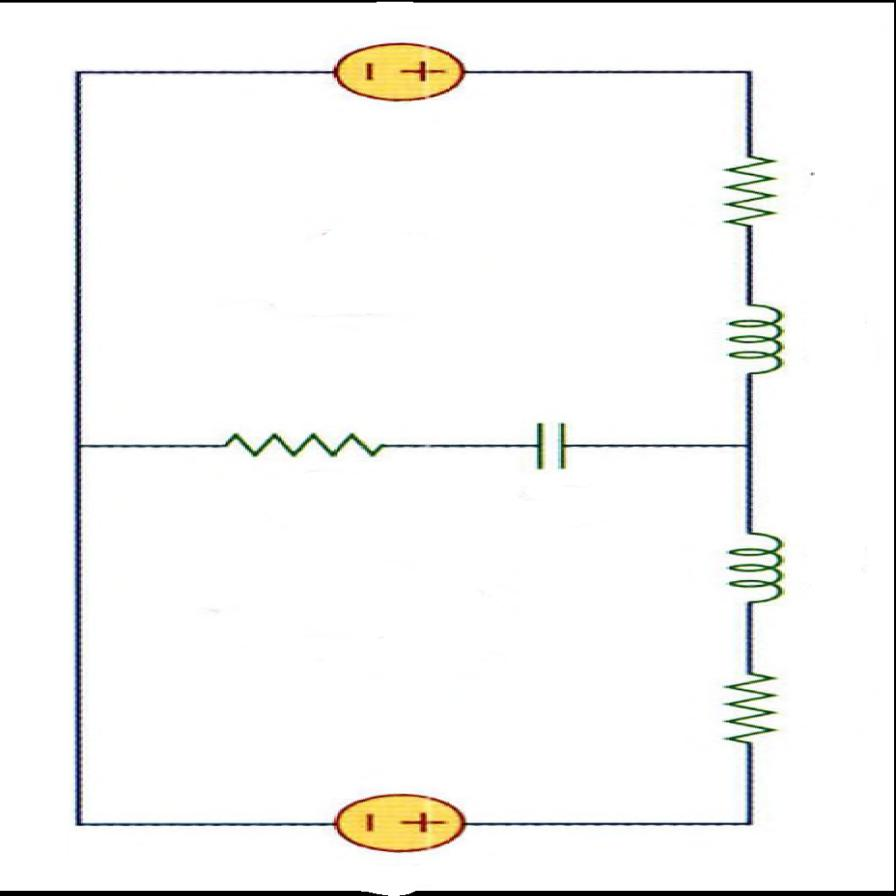C1: (502, 415, 587, 476)
L2: (706, 292, 806, 383), (709, 518, 802, 614)
R1: (207, 425, 394, 467)
R2: (701, 661, 793, 747), (715, 143, 788, 242)
V2: (317, 36, 479, 107), (328, 786, 475, 857)
